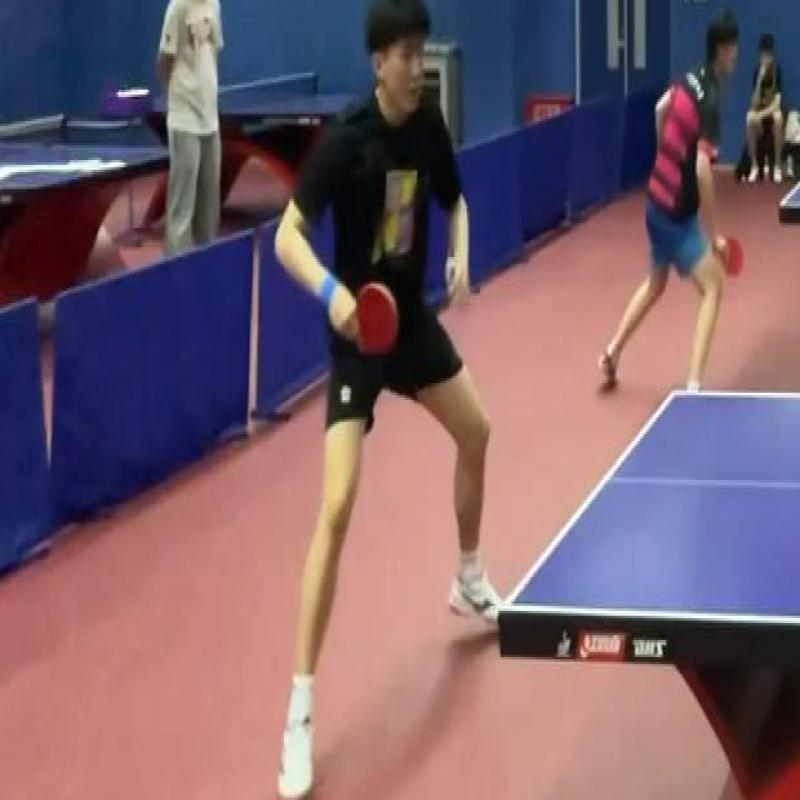bats: (341, 269, 401, 369)
